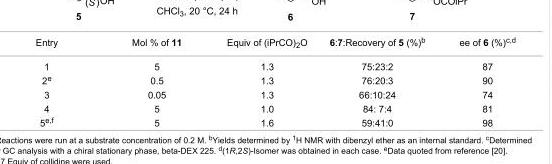table: (34, 34, 514, 127)
table column: (317, 34, 441, 127), (203, 34, 317, 127), (94, 34, 203, 127), (441, 34, 514, 127), (34, 34, 94, 127)
table row: (34, 34, 514, 54), (34, 54, 514, 72), (34, 72, 514, 87), (34, 87, 514, 101), (34, 101, 514, 114), (34, 114, 514, 127)
